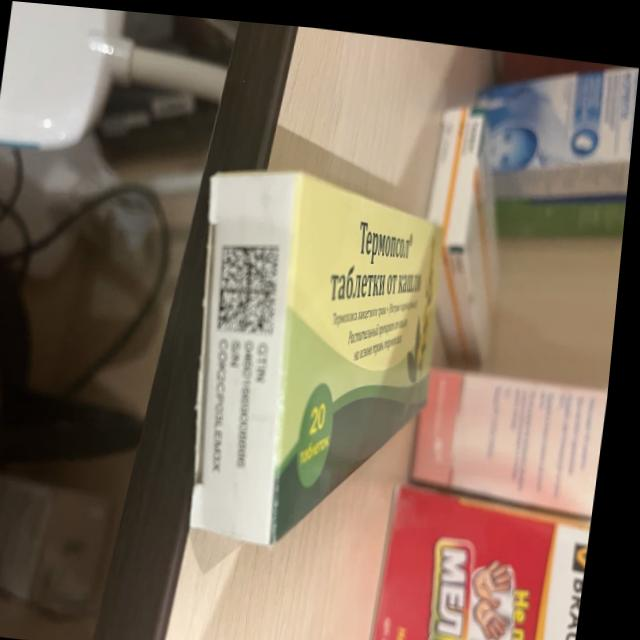datamatrix: (215, 234, 290, 336)
